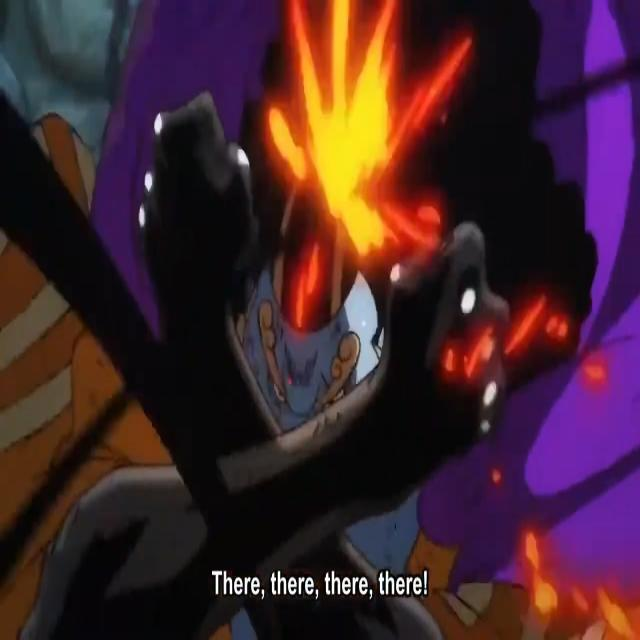Jinbe: (28, 1, 639, 636)
